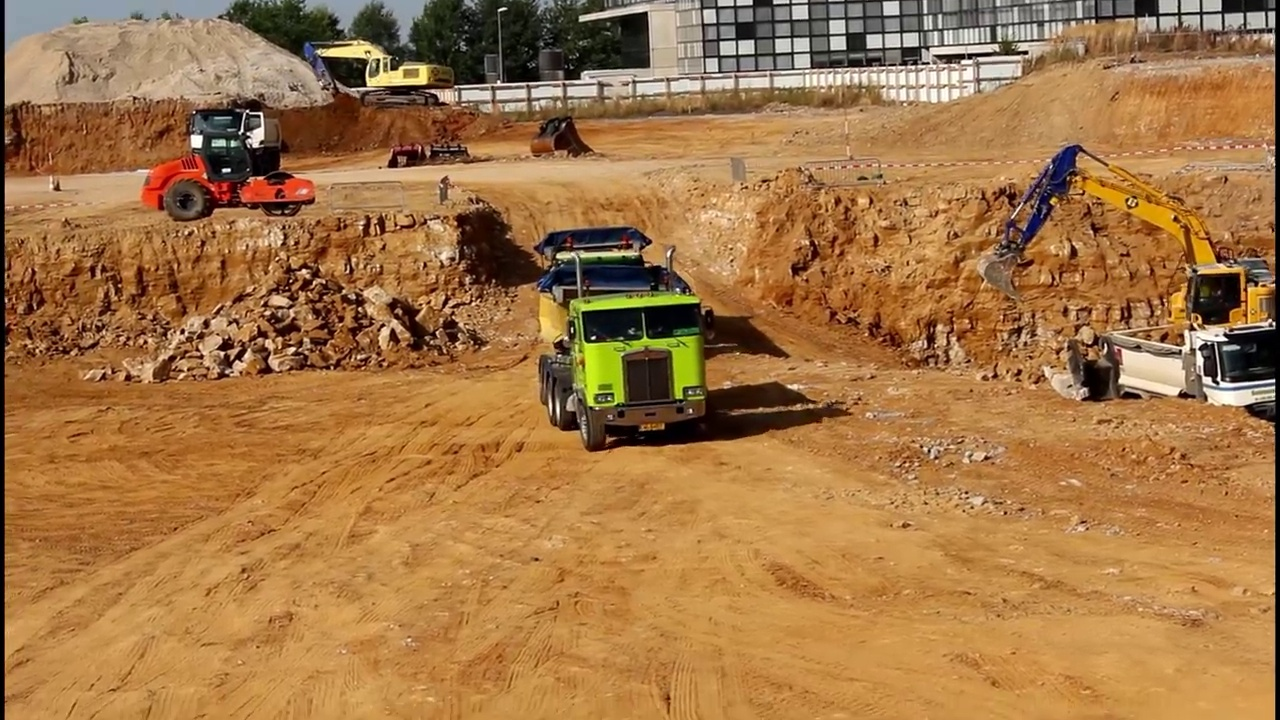compactor: (139, 130, 319, 223)
excavator: (980, 137, 1280, 390), (297, 28, 457, 109)
truck: (533, 245, 719, 458), (1098, 309, 1280, 442), (529, 217, 656, 357), (183, 89, 294, 186)
